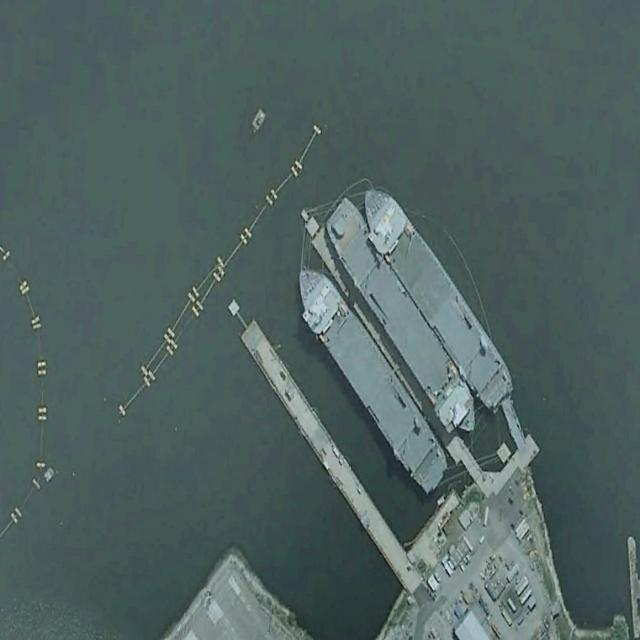Cargo: (319, 192, 490, 448), (283, 248, 453, 501), (350, 171, 520, 418)
